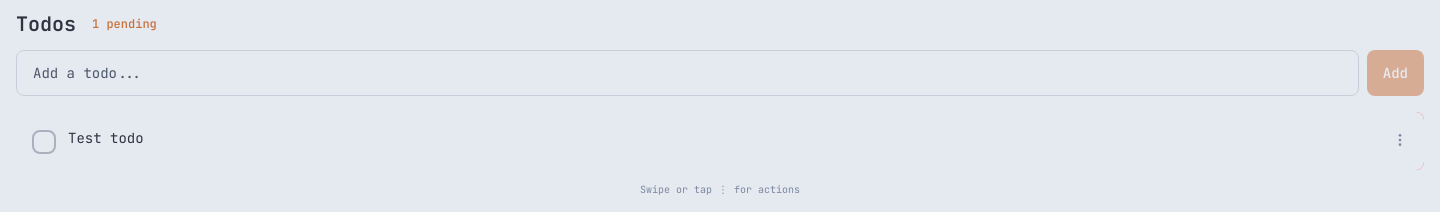
MobileTasksView › todo creation › enables add button when input has text
Type "New todo" into the field with placeholder "Add a todo..." at (687, 73), box [16, 50, 1359, 96]
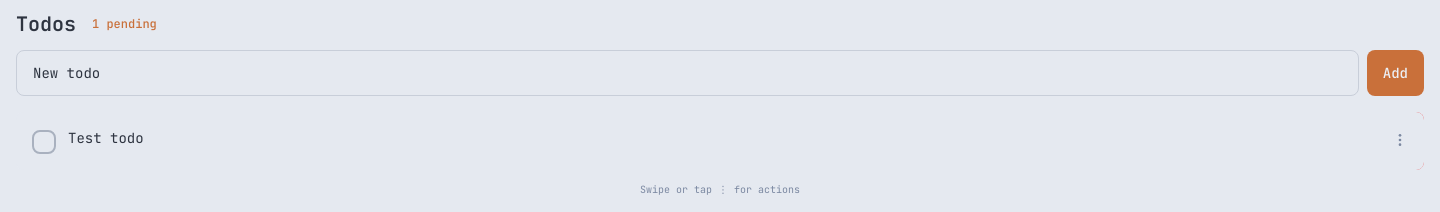
Expected: the button "Add" is enabled, [1367, 50, 1424, 96]
